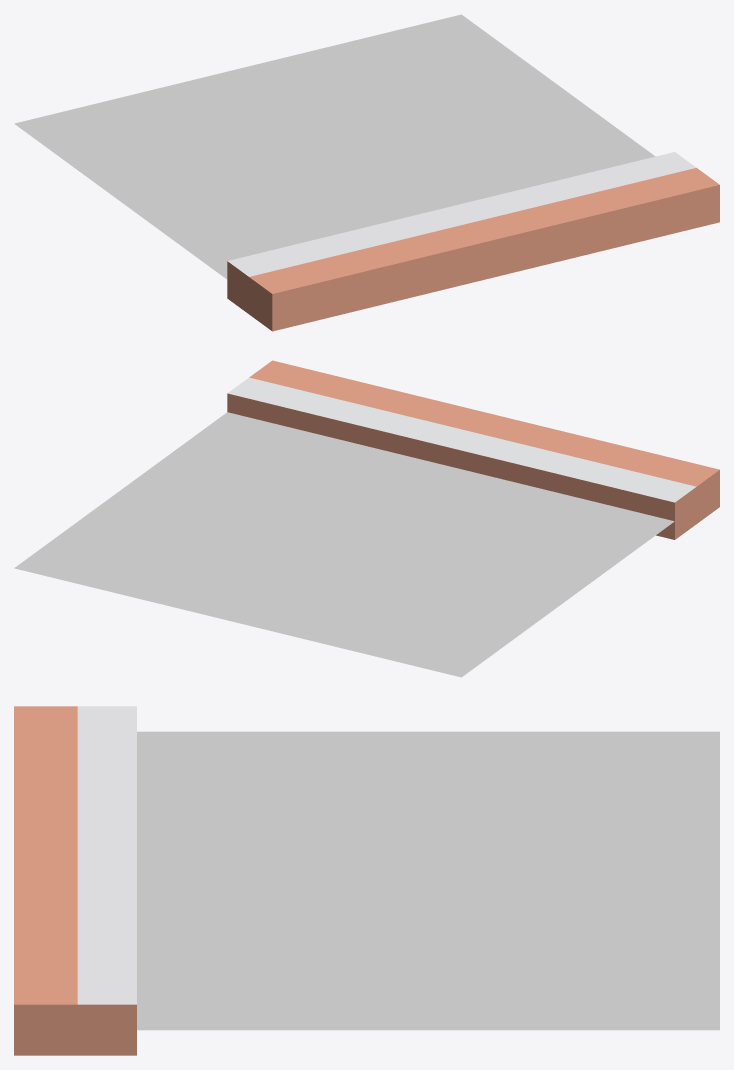
The model's file is metalTileConnectSide.glb.
The picture shows the model from 3 angles, top to bottom: view 1: azimuth 30°, elevation 25°; view 2: azimuth 150°, elevation 25°; view 3: azimuth 270°, elevation 25°; orthographic projection. The views are drawn at different scales.
Visible parts, largest first — view 1: metalTileConnectSide; view 2: metalTileConnectSide; view 3: metalTileConnectSide.
Boxes of the visible parts, bbox=[...] form: metalTileConnectSide: bbox=[14, 14, 719, 331]; metalTileConnectSide: bbox=[14, 360, 719, 677]; metalTileConnectSide: bbox=[14, 706, 719, 1055].
Size of the model in its own units: 10 by 0.8 by 10.
